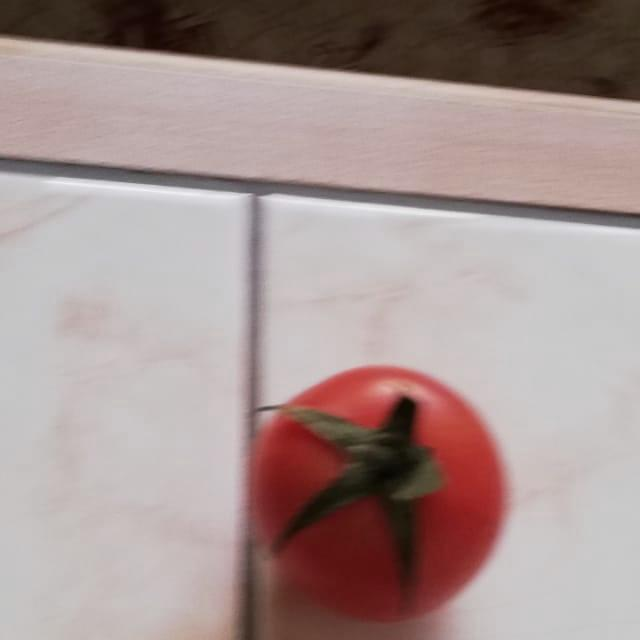tomato: (242, 356, 515, 626)
